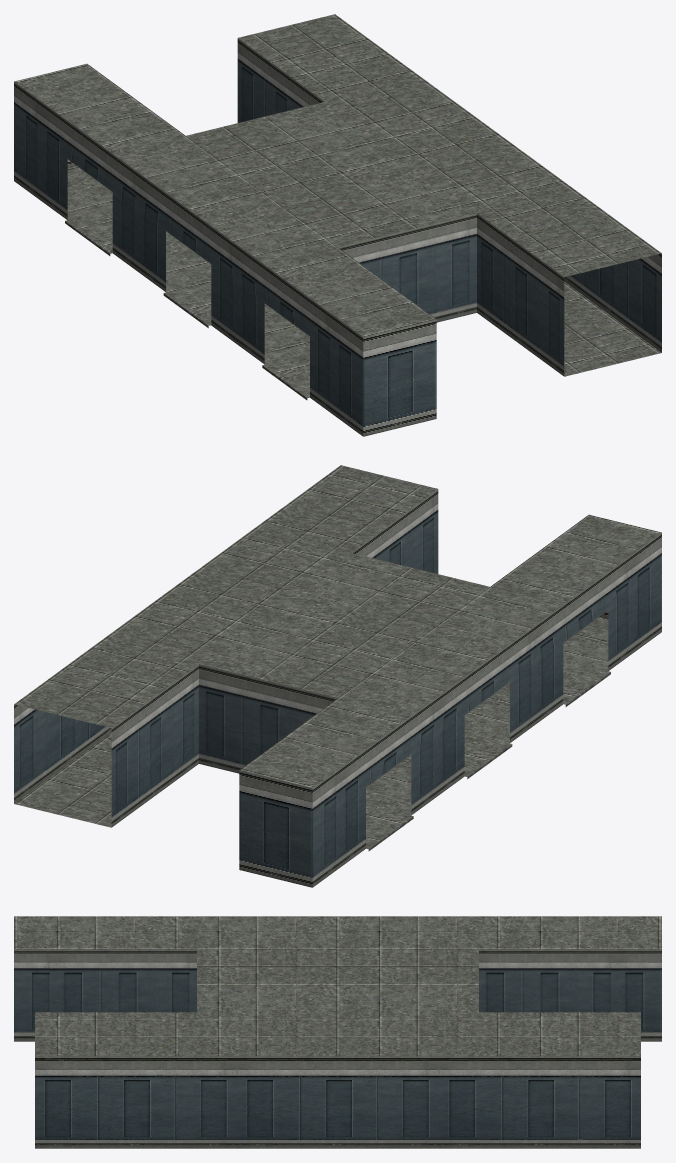
The model's file is thm_corl_imprv_building_s06_r2_foyer2_mesh_l1.fbx.
The picture shows the model from 3 angles, top to bottom: view 1: azimuth 30°, elevation 25°; view 2: azimuth 150°, elevation 25°; view 3: azimuth 270°, elevation 25°; orthographic projection. The views are drawn at different scales.
Parts seen in each view (by area): view 1: mesh_node; view 2: mesh_node; view 3: mesh_node.
Boxes of the visible parts, bbox=[...] form: mesh_node: bbox=[14, 14, 661, 436]; mesh_node: bbox=[14, 465, 661, 887]; mesh_node: bbox=[14, 916, 661, 1148].
Size of the model in its own units: 12.8 by 4 by 24.8.
